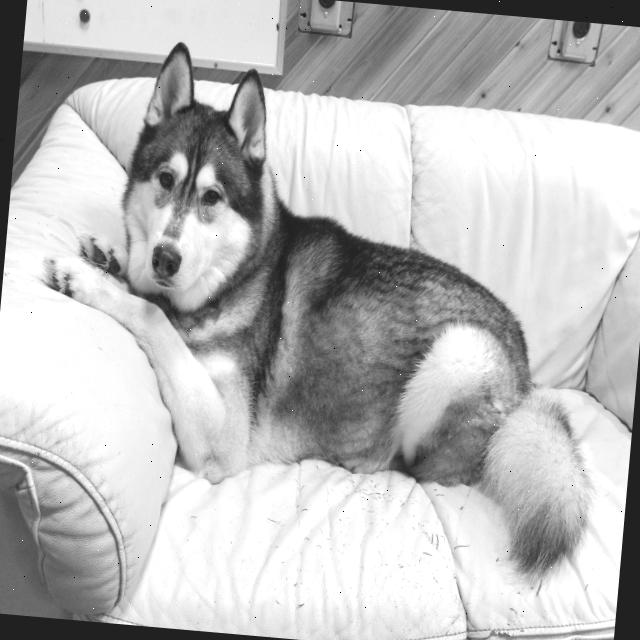siberian_husky_dog: (104, 32, 288, 324)
